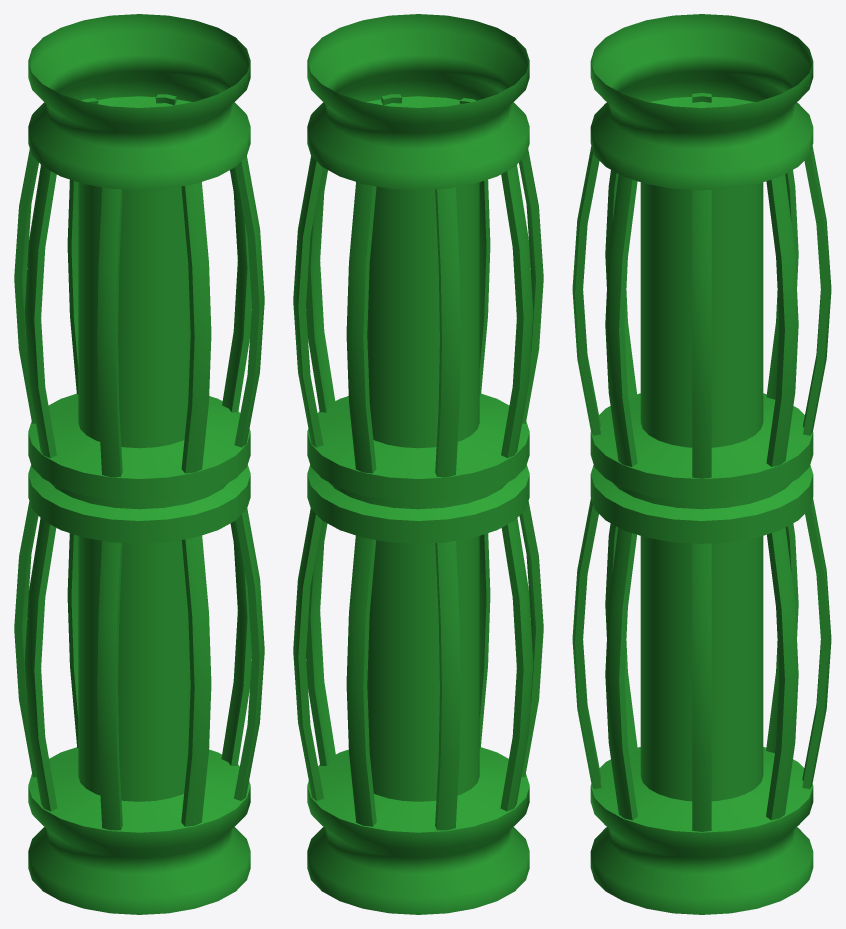
The model's file is SM_BotamyPillar_E.fbx.
3 renders of one model, left to right at view 1: azimuth 30°, elevation 25°; view 2: azimuth 150°, elevation 25°; view 3: azimuth 270°, elevation 25°, orthographic.
Visible parts, largest first — view 1: SM_BotamyPillar_E; view 2: SM_BotamyPillar_E; view 3: SM_BotamyPillar_E.
Part boxes in pixels (x1=…): SM_BotamyPillar_E: x1=14, y1=14, x2=264, y2=914; SM_BotamyPillar_E: x1=293, y1=14, x2=543, y2=914; SM_BotamyPillar_E: x1=572, y1=14, x2=831, y2=914.
Bounding box in the file's own units: 175 × 175 × 600.
